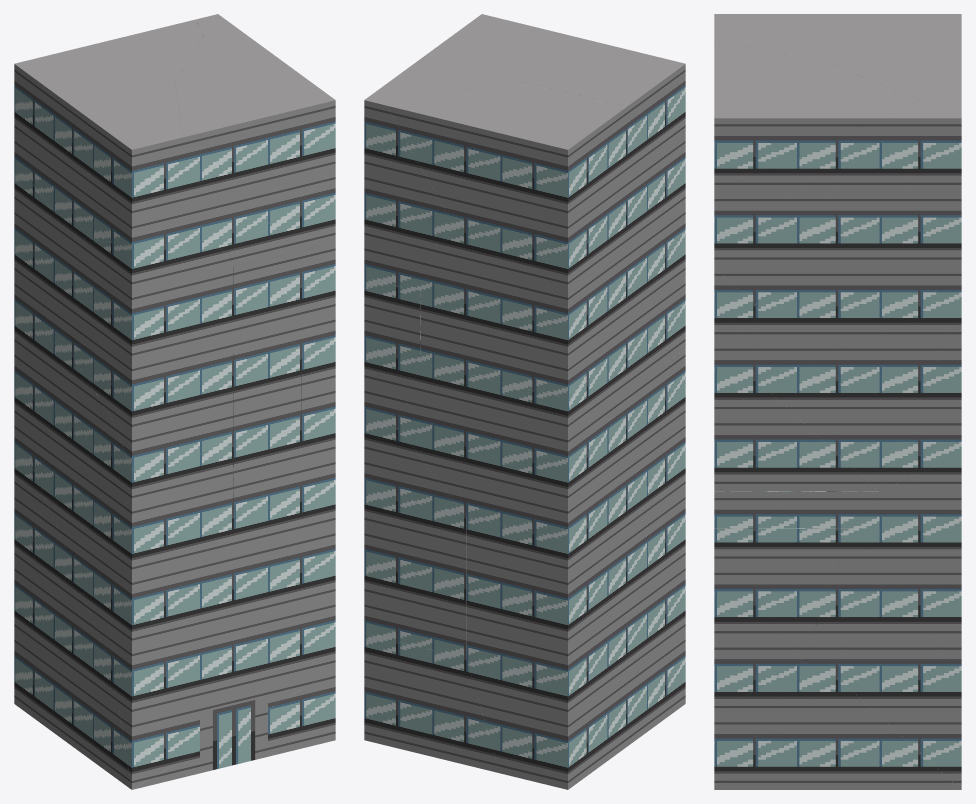
Rendered from Building_3x3x9 Brick.fbx.
The picture shows the model from 3 angles, left to right: view 1: azimuth 30°, elevation 25°; view 2: azimuth 150°, elevation 25°; view 3: azimuth 270°, elevation 25°; orthographic projection. The views are drawn at different scales.
Visible parts, largest first — view 1: BuildingConcrete_3x3x9_cell.013, BuildingConcrete_3x3x9_cell.004, BuildingConcrete_3x3x9_cell, BuildingConcrete_3x3x9_cell.010, BuildingConcrete_3x3x9_cell.012, BuildingConcrete_3x3x9_cell.007, BuildingConcrete_3x3x9_cell.014, BuildingConcrete_3x3x9_cell.016, BuildingConcrete_3x3x9_cell.003, BuildingConcrete_3x3x9_cell.001, BuildingConcrete_3x3x9_cell.018, BuildingConcrete_3x3x9_cell.006 (+6 smaller); view 2: BuildingConcrete_3x3x9_cell.010, BuildingConcrete_3x3x9_cell.018, BuildingConcrete_3x3x9_cell.014, BuildingConcrete_3x3x9_cell.005, BuildingConcrete_3x3x9_cell.011, BuildingConcrete_3x3x9_cell.012, BuildingConcrete_3x3x9_cell.017, BuildingConcrete_3x3x9_cell.002, BuildingConcrete_3x3x9_cell.007, BuildingConcrete_3x3x9_cell.004, BuildingConcrete_3x3x9_cell, BuildingConcrete_3x3x9_cell.015 (+1 smaller); view 3: BuildingConcrete_3x3x9_cell.002, BuildingConcrete_3x3x9_cell.015, BuildingConcrete_3x3x9_cell.011, BuildingConcrete_3x3x9_cell.019, BuildingConcrete_3x3x9_cell.013, BuildingConcrete_3x3x9_cell.004, BuildingConcrete_3x3x9_cell.008, BuildingConcrete_3x3x9_cell.014, BuildingConcrete_3x3x9_cell.017, BuildingConcrete_3x3x9_cell.009, BuildingConcrete_3x3x9_cell.007, BuildingConcrete_3x3x9_cell.001.
Boxes of the visible parts, left/top/right/bottom form: BuildingConcrete_3x3x9_cell.013: left=112, top=491, right=335, bottom=789; BuildingConcrete_3x3x9_cell.004: left=175, top=36, right=335, bottom=252; BuildingConcrete_3x3x9_cell: left=73, top=232, right=233, bottom=433; BuildingConcrete_3x3x9_cell.010: left=14, top=455, right=131, bottom=789; BuildingConcrete_3x3x9_cell.012: left=34, top=356, right=131, bottom=668; BuildingConcrete_3x3x9_cell.007: left=73, top=82, right=182, bottom=244; BuildingConcrete_3x3x9_cell.014: left=14, top=19, right=203, bottom=236; BuildingConcrete_3x3x9_cell.016: left=132, top=445, right=233, bottom=646; BuildingConcrete_3x3x9_cell.003: left=112, top=303, right=233, bottom=469; BuildingConcrete_3x3x9_cell.001: left=233, top=242, right=335, bottom=357; BuildingConcrete_3x3x9_cell.018: left=14, top=159, right=72, bottom=355; BuildingConcrete_3x3x9_cell.006: left=233, top=303, right=301, bottom=444; BuildingConcrete_3x3x9_cell.010: left=466, top=516, right=685, bottom=789; BuildingConcrete_3x3x9_cell.018: left=421, top=215, right=626, bottom=398; BuildingConcrete_3x3x9_cell.014: left=387, top=82, right=626, bottom=244; BuildingConcrete_3x3x9_cell.005: left=398, top=356, right=626, bottom=540; BuildingConcrete_3x3x9_cell.011: left=364, top=420, right=466, bottom=658; BuildingConcrete_3x3x9_cell.012: left=587, top=355, right=685, bottom=610; BuildingConcrete_3x3x9_cell.017: left=364, top=633, right=499, bottom=773; BuildingConcrete_3x3x9_cell.002: left=364, top=71, right=447, bottom=291; BuildingConcrete_3x3x9_cell.007: left=525, top=51, right=685, bottom=236; BuildingConcrete_3x3x9_cell.004: left=403, top=14, right=634, bottom=93; BuildingConcrete_3x3x9_cell: left=627, top=159, right=685, bottom=362; BuildingConcrete_3x3x9_cell.015: left=364, top=278, right=420, bottom=428; BuildingConcrete_3x3x9_cell.002: left=714, top=101, right=961, bottom=304; BuildingConcrete_3x3x9_cell.015: left=755, top=305, right=961, bottom=491; BuildingConcrete_3x3x9_cell.011: left=803, top=454, right=961, bottom=677; BuildingConcrete_3x3x9_cell.019: left=714, top=662, right=960, bottom=789; BuildingConcrete_3x3x9_cell.013: left=714, top=528, right=851, bottom=714; BuildingConcrete_3x3x9_cell.004: left=714, top=40, right=919, bottom=192; BuildingConcrete_3x3x9_cell.008: left=714, top=379, right=878, bottom=491; BuildingConcrete_3x3x9_cell.014: left=838, top=14, right=961, bottom=106; BuildingConcrete_3x3x9_cell.017: left=838, top=678, right=961, bottom=789; BuildingConcrete_3x3x9_cell.009: left=714, top=491, right=878, bottom=528; BuildingConcrete_3x3x9_cell.007: left=714, top=14, right=837, bottom=65; BuildingConcrete_3x3x9_cell.001: left=714, top=268, right=755, bottom=379.
Size of the model in its own units: 900 by 2700 by 900.
